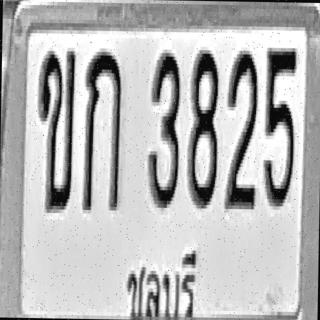A01: (82, 49, 122, 212)
A02: (36, 47, 76, 213)
N02: (224, 47, 258, 209)
N03: (147, 49, 180, 208)
N05: (263, 46, 297, 208)
N08: (187, 50, 219, 208)
P13: (118, 238, 205, 320)
